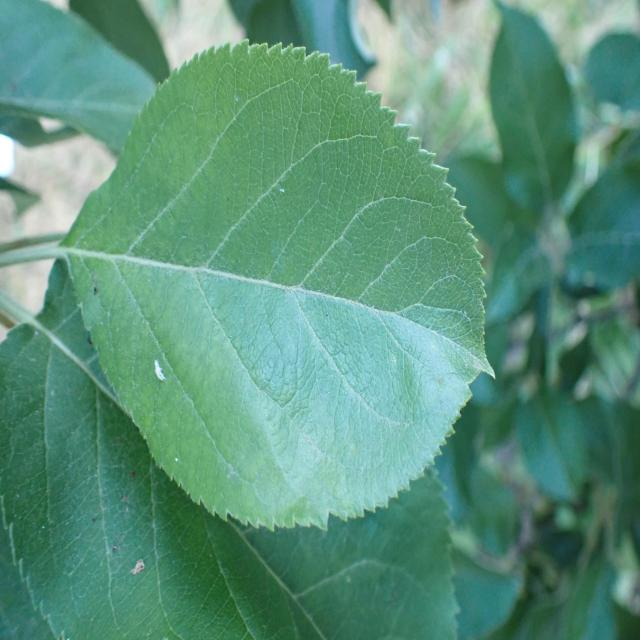healthy: (61, 38, 497, 534), (227, 465, 462, 640), (0, 0, 159, 155)
